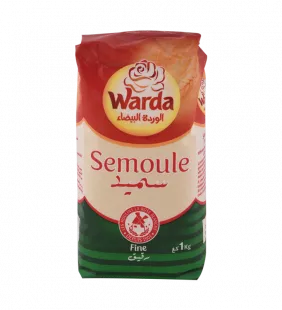LA ROSE BLANCHE: (68, 20, 213, 290)
